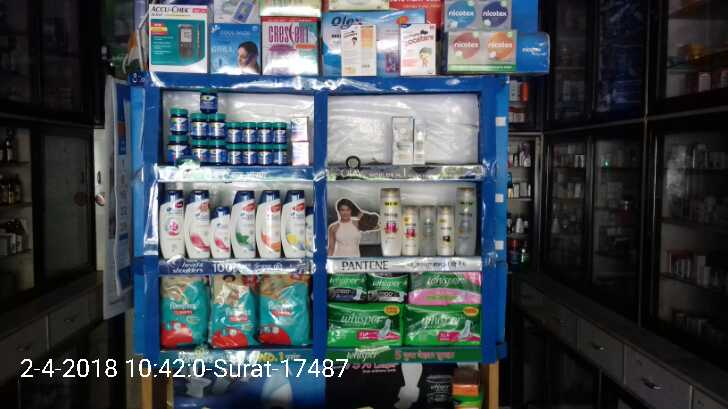vicks: (168, 135, 189, 163), (170, 107, 187, 134), (199, 88, 218, 112), (191, 113, 208, 139), (192, 141, 210, 165), (271, 122, 290, 144), (292, 142, 309, 166), (211, 141, 228, 165), (208, 114, 224, 139), (292, 119, 309, 142), (274, 144, 290, 166), (256, 122, 271, 144), (259, 144, 274, 166), (228, 145, 244, 165), (241, 122, 255, 143), (245, 145, 259, 166), (228, 122, 241, 143)
